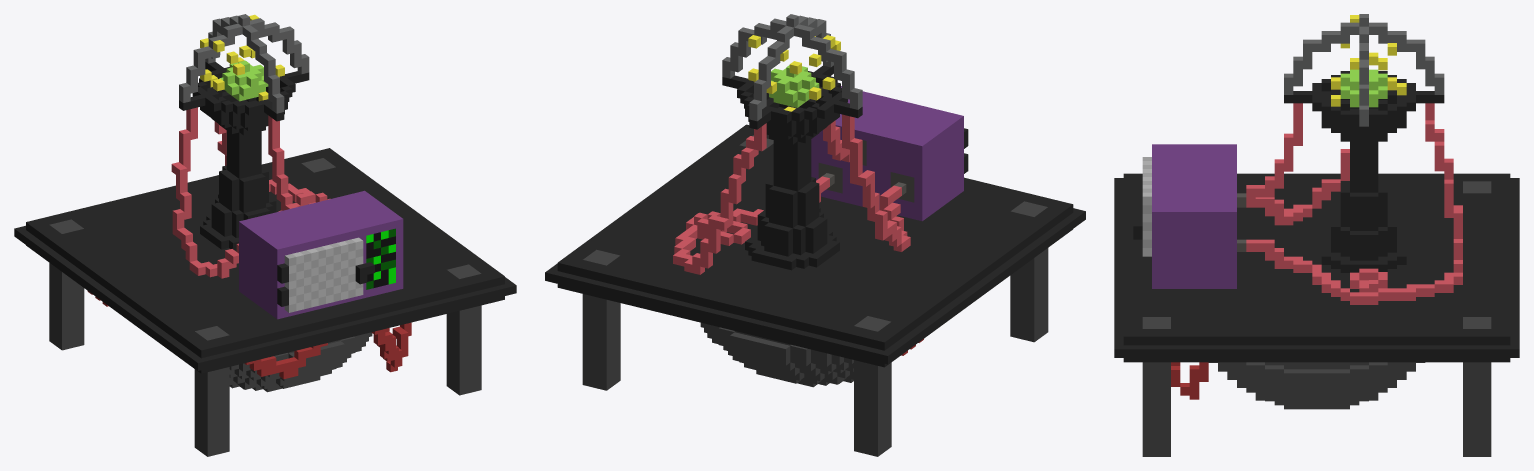
The model's file is Microwave.2.dae.
The picture shows the model from 3 angles, left to right: view 1: azimuth 30°, elevation 25°; view 2: azimuth 150°, elevation 25°; view 3: azimuth 270°, elevation 25°; orthographic projection. The views are drawn at different scales.
Parts seen in each view (by area): view 1: Microwave2; view 2: Microwave2; view 3: Microwave2.
Boxes of the visible parts, left/top/right/bottom form: Microwave2: left=14, top=14, right=516, bottom=456; Microwave2: left=545, top=14, right=1085, bottom=456; Microwave2: left=1114, top=14, right=1519, bottom=456.
Bounding box in the file's own units: 43 × 43 × 43.
Materials: 1 (1 with a texture image).
